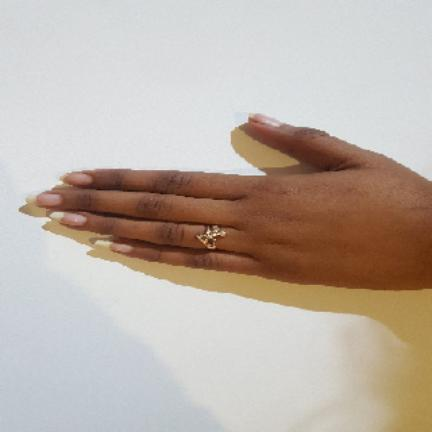Nail: (50, 212, 87, 226), (249, 114, 283, 128), (26, 194, 62, 207), (60, 173, 93, 186), (111, 244, 133, 253)
